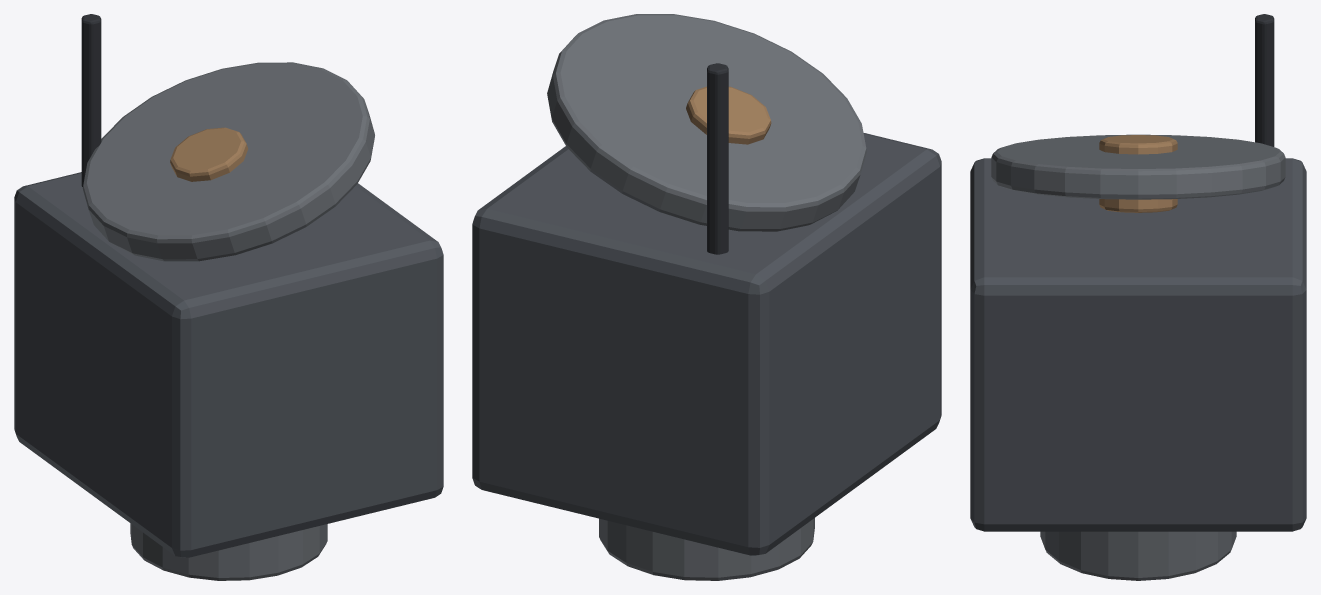
Rendered from module_aux_radar.fbx.
3 renders of one model, left to right at view 1: azimuth 30°, elevation 25°; view 2: azimuth 150°, elevation 25°; view 3: azimuth 270°, elevation 25°, orthographic. The views are drawn at different scales.
Visible parts, largest first — view 1: SM_Module_AuxRadar; view 2: SM_Module_AuxRadar; view 3: SM_Module_AuxRadar.
Boxes of the visible parts, bbox=[...] form: SM_Module_AuxRadar: bbox=[14, 14, 443, 580]; SM_Module_AuxRadar: bbox=[472, 14, 941, 580]; SM_Module_AuxRadar: bbox=[970, 14, 1306, 580].
Size of what is drawn, in the model's own units: 22 by 38.5 by 24.
